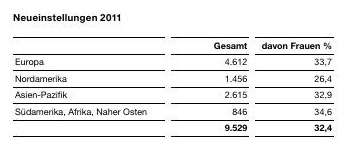table: (0, 0, 346, 149)
